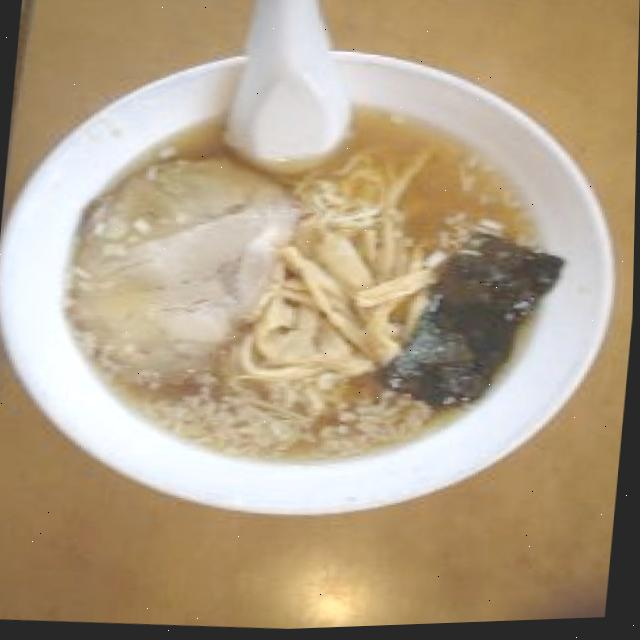面条主食: (0, 19, 636, 558)
